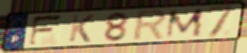7: (206, 5, 237, 40)
8: (103, 11, 131, 43)
F: (27, 13, 65, 48)
K: (67, 14, 96, 43)
M: (163, 8, 205, 40)
R: (130, 8, 169, 43)
